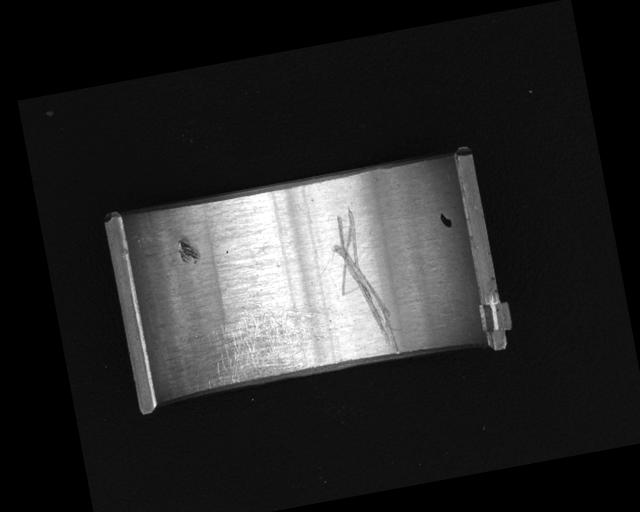blot: (437, 210, 454, 230)
bruise: (174, 234, 201, 267)
nick: (326, 203, 403, 363)
scratch: (197, 296, 338, 388)
